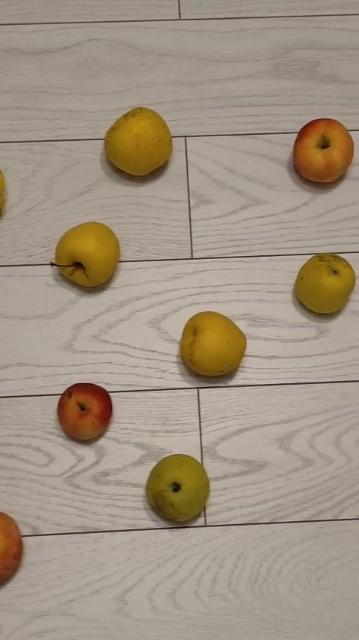apple_green: (104, 106, 172, 176), (145, 453, 210, 522), (181, 311, 246, 376), (53, 222, 120, 285), (295, 253, 357, 313)
apple_red: (292, 118, 354, 183), (57, 383, 113, 440), (0, 511, 23, 586)
